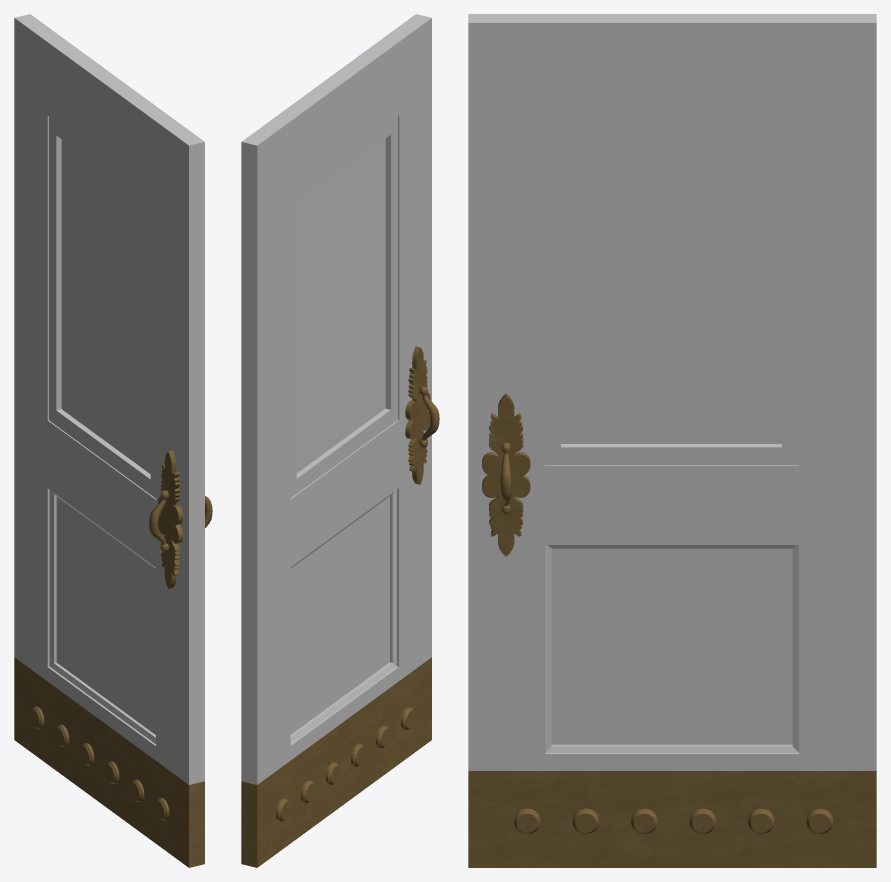
File: SM_WD53_DOOR.fbx
3 views of the same model, side by side, from view 1: azimuth 30°, elevation 25°; view 2: azimuth 150°, elevation 25°; view 3: azimuth 270°, elevation 25° (orthographic). The views are drawn at different scales.
Parts seen in each view (by area): view 1: SM_WD53_DOOR; view 2: SM_WD53_DOOR; view 3: SM_WD53_DOOR.
Boxes of the visible parts, left/top/right/bottom form: SM_WD53_DOOR: left=14, top=14, right=212, bottom=867; SM_WD53_DOOR: left=241, top=14, right=439, bottom=867; SM_WD53_DOOR: left=468, top=14, right=876, bottom=867.
Bounding box in the file's own units: 19.97 × 97.7 × 223.
